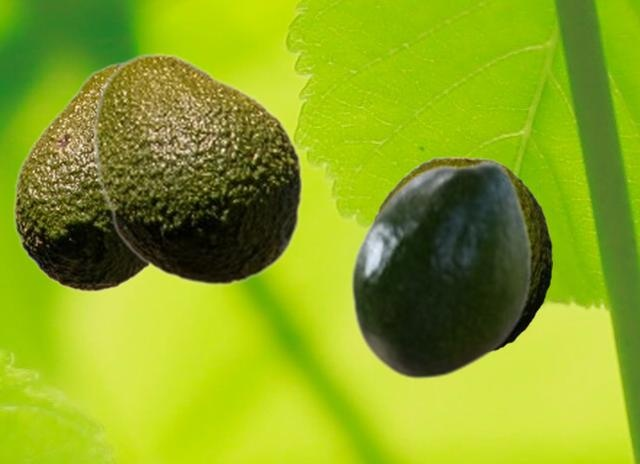avocado: (92, 52, 303, 286), (349, 159, 531, 379), (370, 156, 551, 353), (13, 62, 150, 292)
